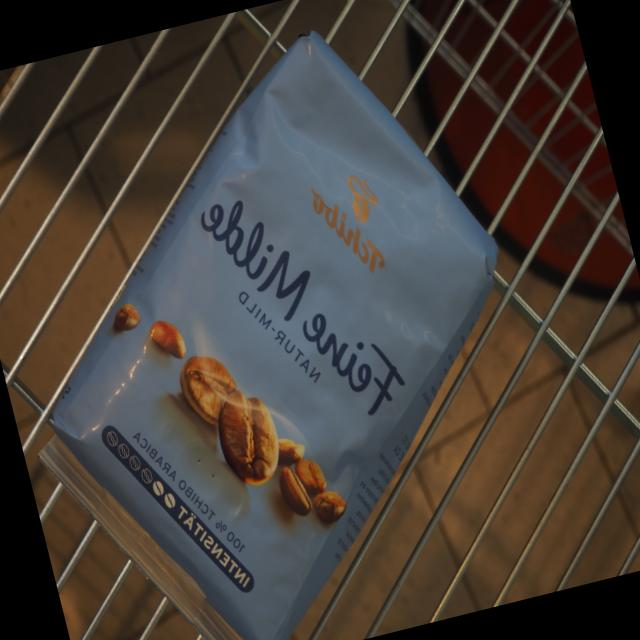FM Bohne: (0, 0, 589, 640)
